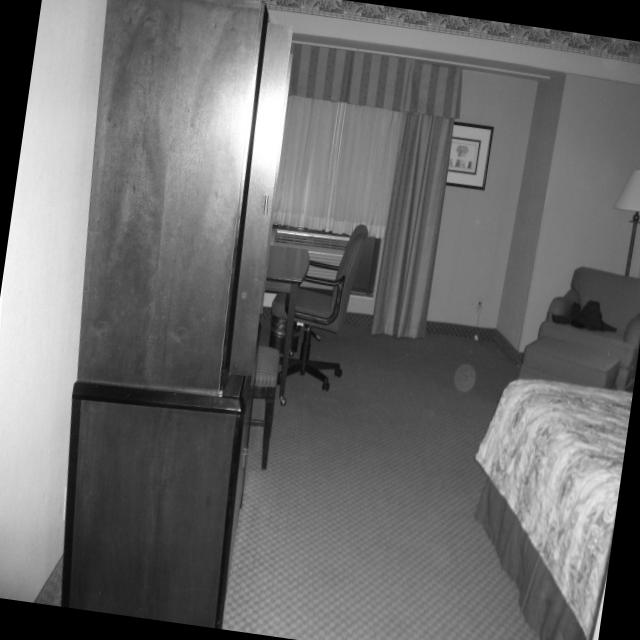armchair of dentist: (517, 266, 640, 388)
bed frame: (474, 381, 631, 640)
chair part: (255, 344, 280, 466)
curtain crop: (290, 43, 461, 341)
floor -X: (34, 307, 632, 640)
furniture crop: (63, 0, 292, 628)
lampshade: (615, 169, 640, 209)
picture of flag: (446, 122, 494, 190)
swivel chair crop: (274, 224, 369, 391)
table runner: (267, 244, 308, 402)
wall clock: (230, 0, 640, 373), (265, 38, 538, 341), (492, 73, 563, 368)
